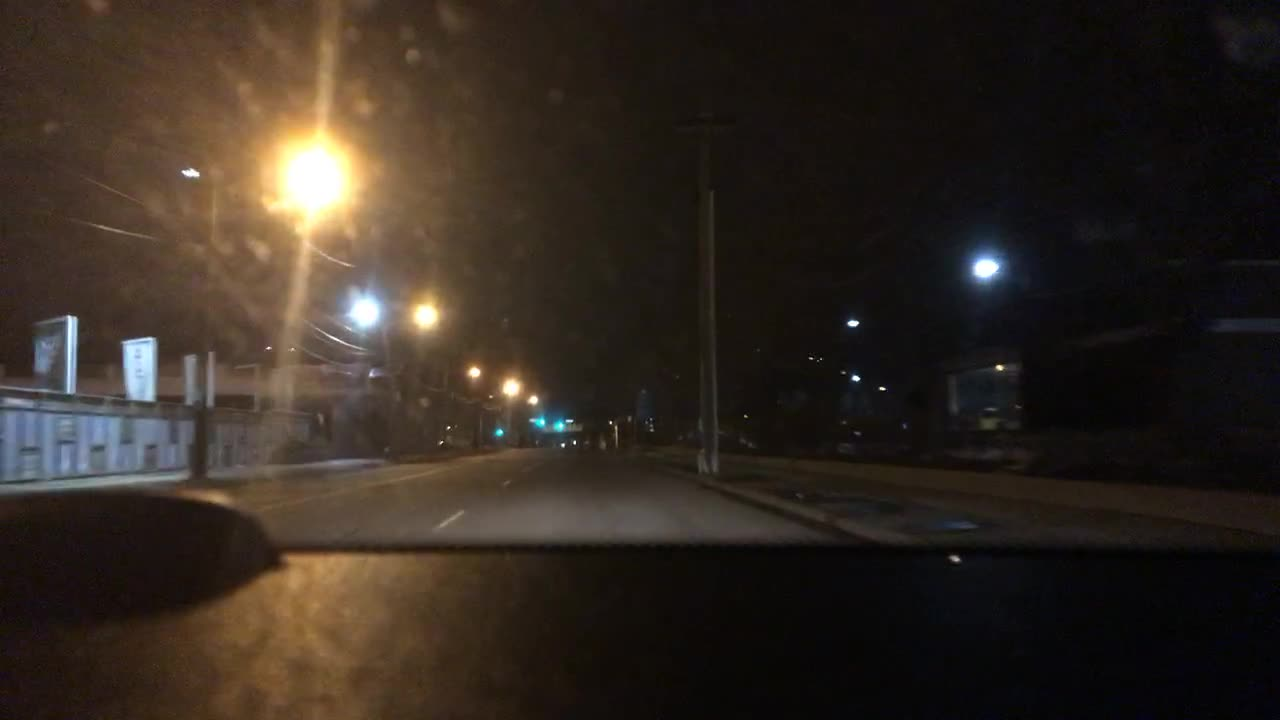car: (559, 435, 578, 451)
traffic light: (496, 417, 503, 437), (556, 415, 562, 429), (537, 410, 542, 426)
